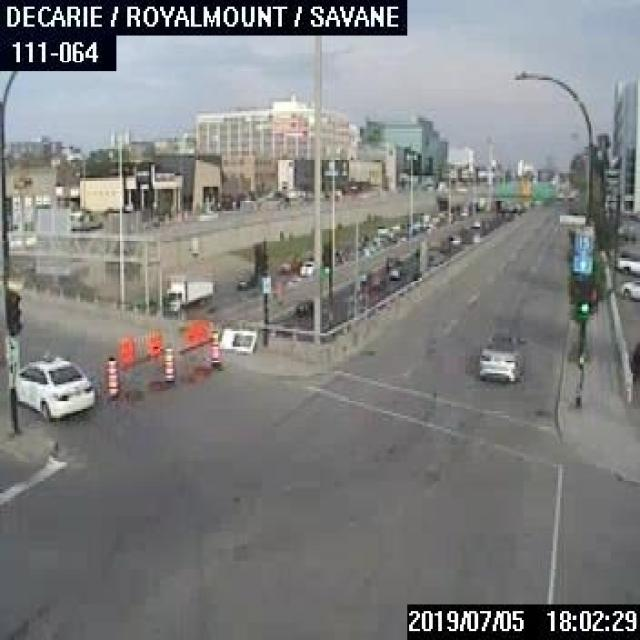construction: (179, 318, 210, 382), (118, 335, 138, 397), (146, 330, 162, 387), (163, 345, 173, 377), (106, 358, 115, 392), (210, 333, 218, 367)
vehicle: (16, 354, 94, 424), (476, 333, 524, 380), (163, 276, 212, 312), (614, 250, 638, 274), (618, 277, 638, 300), (236, 272, 256, 288), (298, 258, 311, 276), (386, 263, 400, 278)
